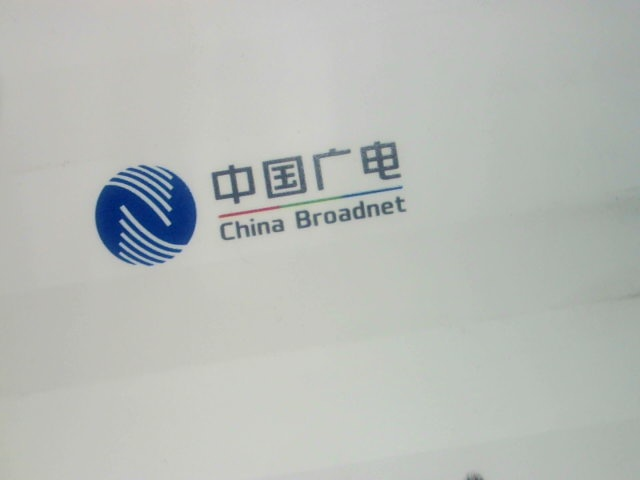AW_ChinaBroadNet: (81, 138, 436, 269)
